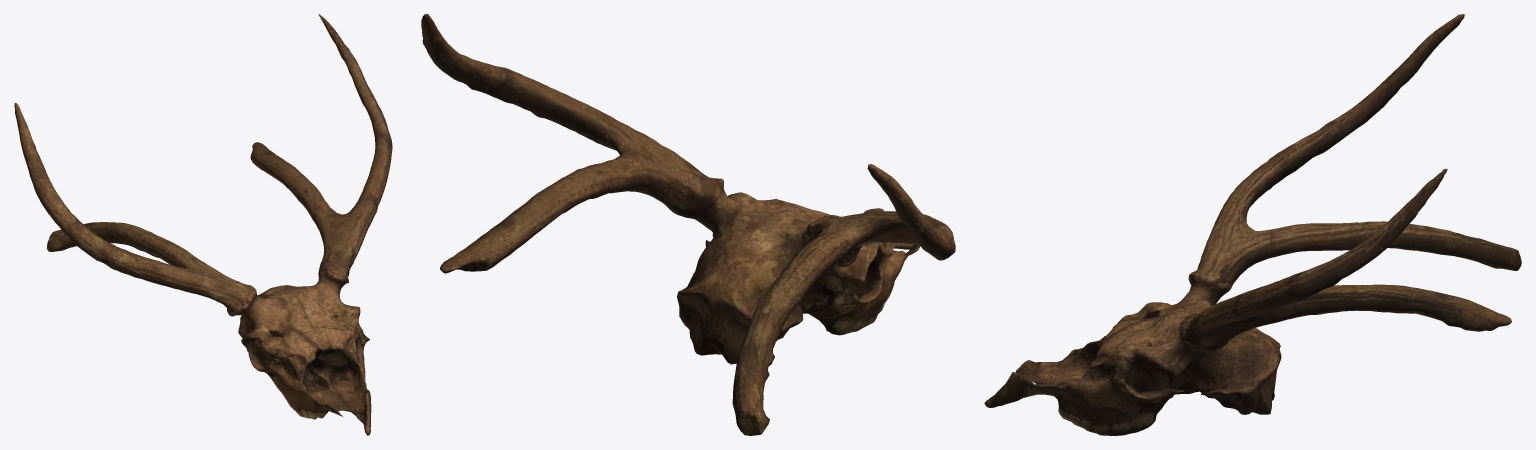
3 renders of one model, left to right at view 1: azimuth 30°, elevation 25°; view 2: azimuth 150°, elevation 25°; view 3: azimuth 270°, elevation 25°, orthographic. The views are drawn at different scales.
Visible parts, largest first — view 1: Hapleidoceros_LP.004; view 2: Hapleidoceros_LP.004; view 3: Hapleidoceros_LP.004.
Boxes of the visible parts, x1,y1,x2,y2 form: Hapleidoceros_LP.004: (14, 14, 392, 435); Hapleidoceros_LP.004: (421, 14, 955, 435); Hapleidoceros_LP.004: (984, 14, 1521, 435).
Size of the model in its own units: 0.4522 by 0.3503 by 0.513.
Materials: 1 (1 with a texture image).
